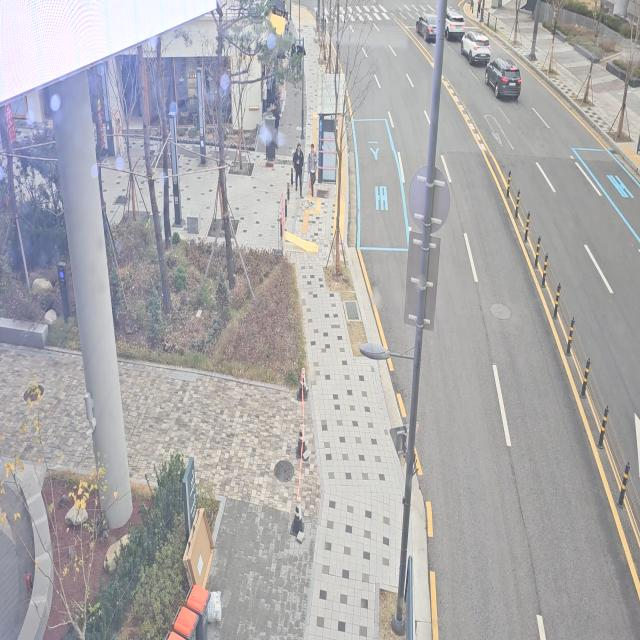Car: (484, 42, 524, 105), (458, 22, 491, 64), (414, 6, 441, 47), (439, 0, 466, 39)
